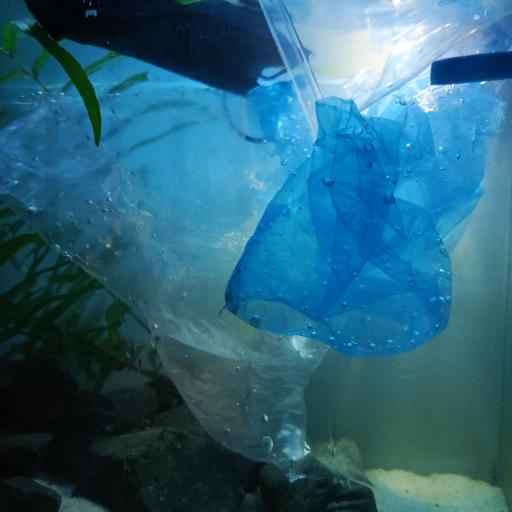bottle_cap: (431, 53, 512, 87)
mask: (23, 0, 310, 141)
plastic_bag: (1, 69, 371, 474), (228, 14, 512, 355)
plastic_cup: (260, 1, 512, 137)
